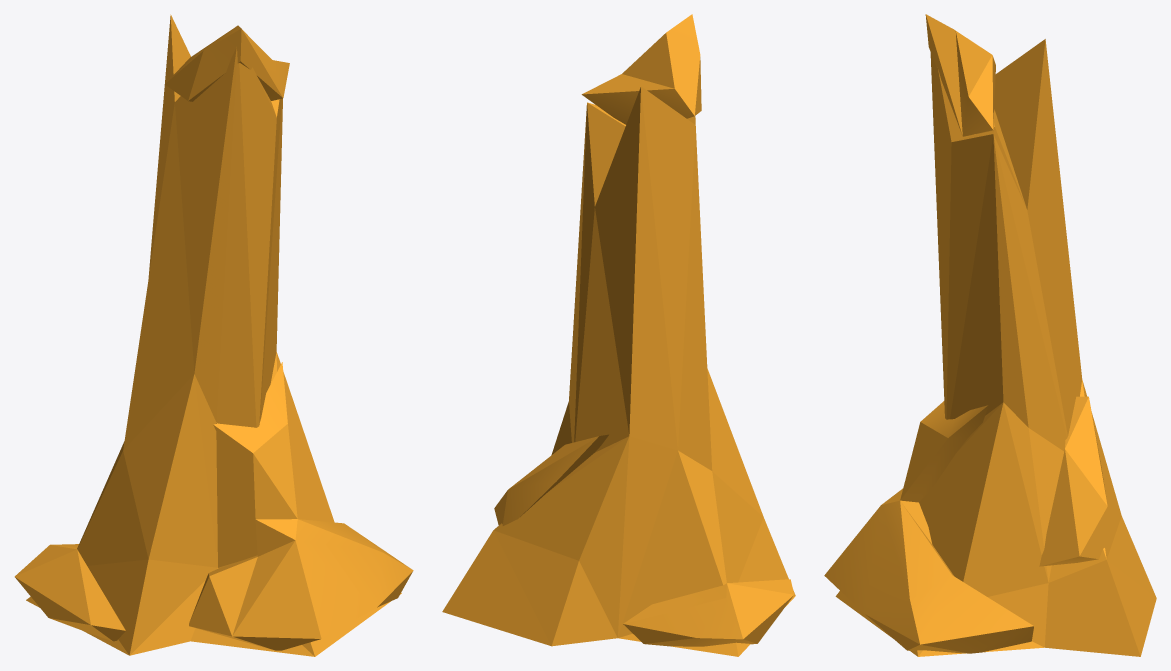
The model's file is SM_Tree_Beech_Broken_A_Snow.fbx.
3 views of the same model, side by side, from view 1: azimuth 30°, elevation 25°; view 2: azimuth 150°, elevation 25°; view 3: azimuth 270°, elevation 25° (orthographic). The views are drawn at different scales.
Visible parts, largest first — view 1: tree-beech-broken-a-snow; view 2: tree-beech-broken-a-snow; view 3: tree-beech-broken-a-snow.
Boxes of the visible parts, x1=… form: tree-beech-broken-a-snow: x1=14, y1=14, x2=413, y2=656; tree-beech-broken-a-snow: x1=442, y1=14, x2=795, y2=656; tree-beech-broken-a-snow: x1=824, y1=14, x2=1156, y2=656.
Size of the model in its own units: 0.8941 by 1.66 by 0.8738.
